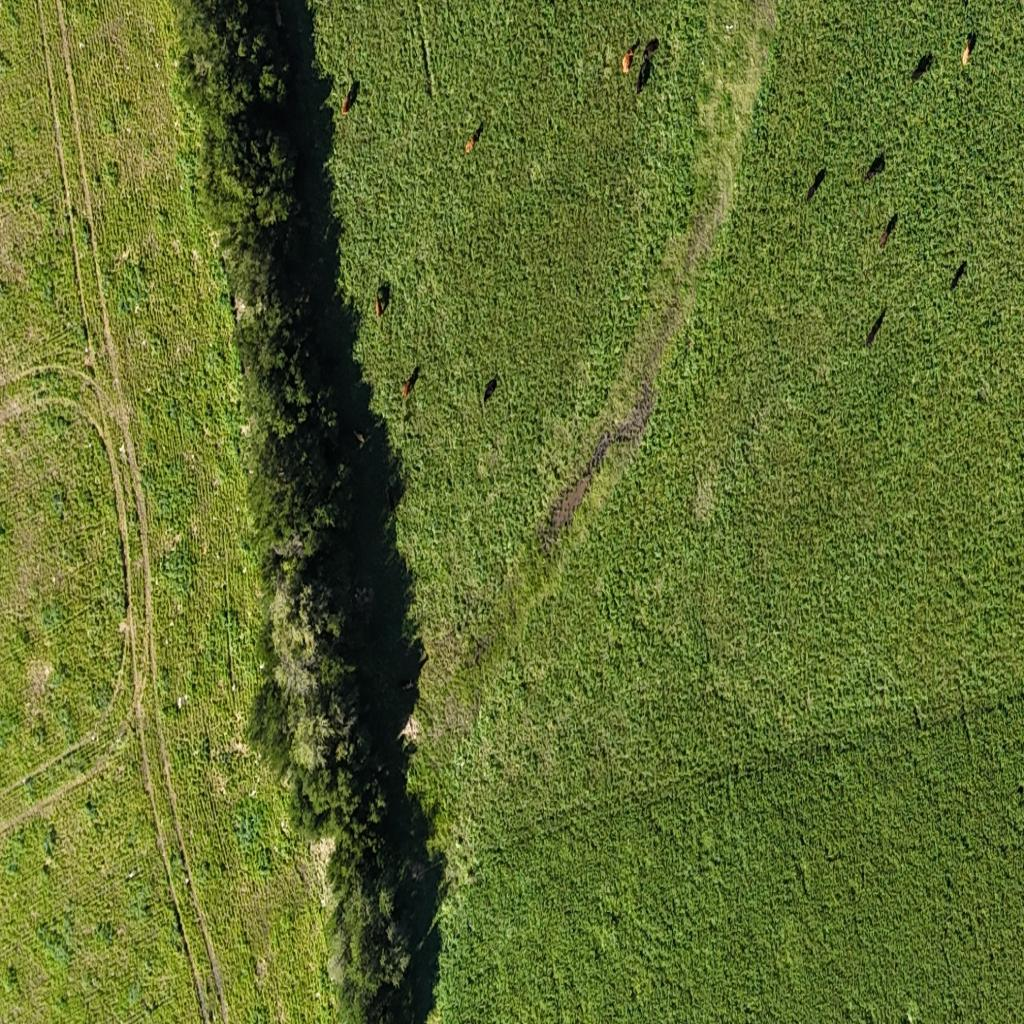cow: (866, 305, 886, 347), (910, 52, 934, 82), (806, 167, 826, 203), (879, 211, 897, 251), (400, 367, 418, 401), (864, 152, 885, 181), (636, 56, 651, 96), (342, 82, 356, 116), (951, 260, 967, 289), (375, 283, 388, 317), (483, 375, 498, 404), (642, 37, 660, 60), (965, 31, 977, 55), (622, 50, 634, 72), (465, 136, 475, 153)
